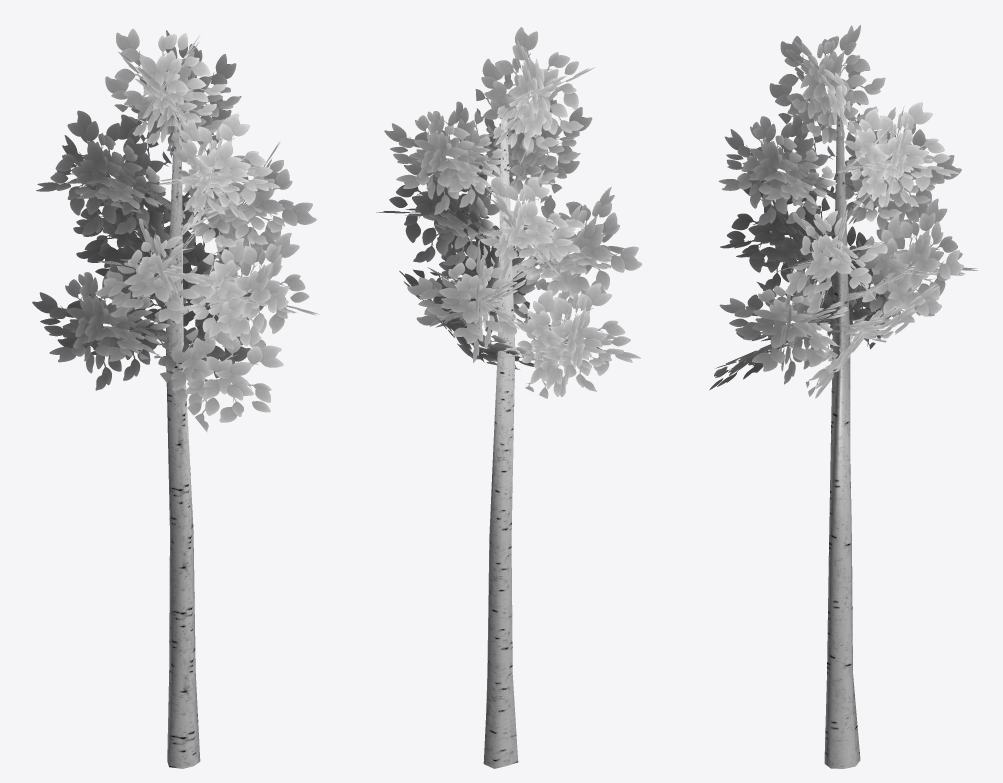
Rendered from Birch_03.fbx.
3 renders of one model, left to right at view 1: azimuth 30°, elevation 25°; view 2: azimuth 150°, elevation 25°; view 3: azimuth 270°, elevation 25°, orthographic. The views are drawn at different scales.
Parts seen in each view (by area): view 1: FAE_Birch_C_LOD0; view 2: FAE_Birch_C_LOD0; view 3: FAE_Birch_C_LOD0.
Boxes of the visible parts, x1,y1,x2,y2 form: FAE_Birch_C_LOD0: [32, 29, 319, 768]; FAE_Birch_C_LOD0: [376, 27, 642, 768]; FAE_Birch_C_LOD0: [709, 25, 977, 768].
Size of what is drawn, in the model's own units: 668 by 1803 by 675.
